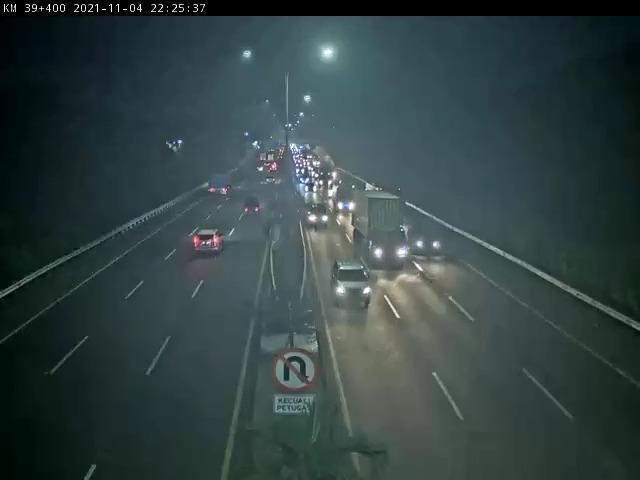car: (401, 211, 445, 261), (332, 258, 376, 306), (190, 227, 224, 260), (305, 200, 334, 228), (240, 198, 263, 224)
truck: (355, 188, 416, 268), (330, 185, 357, 218), (204, 174, 231, 205)
